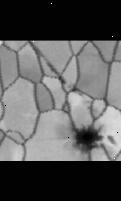good_void: (72, 120, 112, 155), (77, 91, 83, 98)
